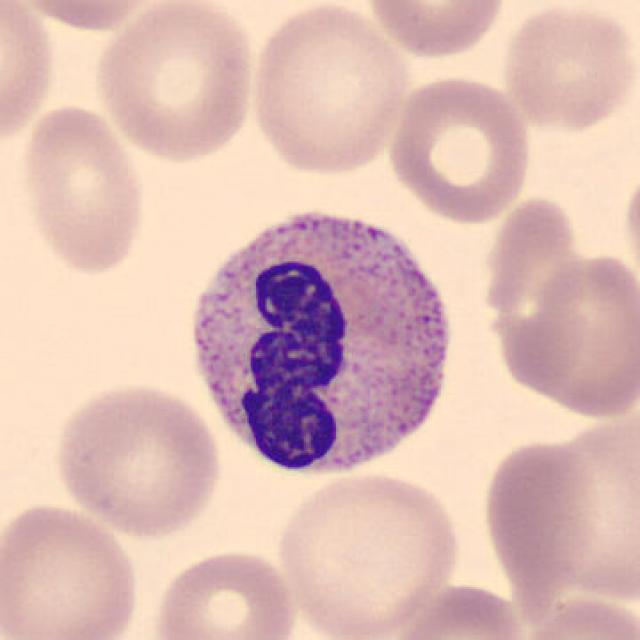Neutrophil: (176, 192, 468, 494)
RBC: (270, 467, 464, 638), (243, 0, 412, 180), (48, 378, 226, 540), (89, 0, 259, 164), (492, 247, 640, 423), (16, 100, 151, 278), (384, 70, 535, 226), (0, 497, 144, 640), (477, 432, 599, 599), (498, 2, 638, 134), (150, 545, 300, 640), (0, 0, 60, 155), (363, 0, 510, 62), (381, 580, 532, 640), (510, 590, 638, 640), (10, 0, 172, 35), (618, 158, 640, 292)
